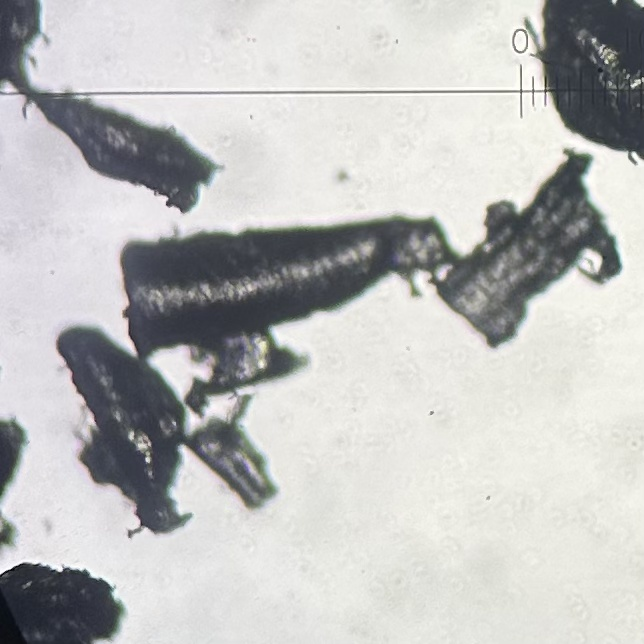microplastic: (117, 215, 461, 366), (429, 145, 624, 349), (54, 322, 194, 542), (17, 90, 229, 215), (522, 1, 644, 169), (1, 560, 131, 644), (185, 416, 285, 512), (203, 329, 313, 394), (1, 1, 54, 94), (1, 414, 38, 507), (215, 399, 246, 457), (182, 373, 215, 418), (1, 508, 19, 554)
